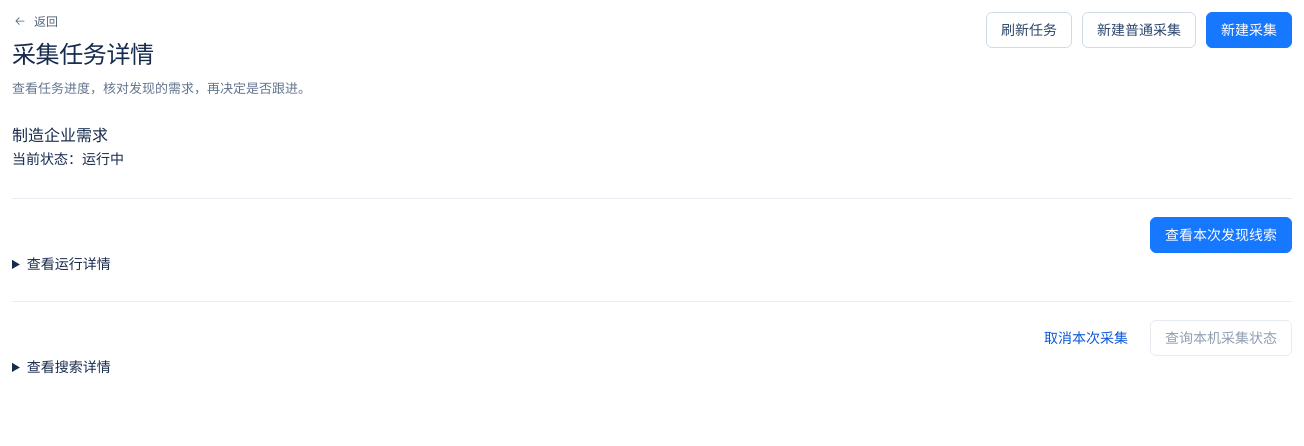
it: keeps the last observation with a visible warning on failed refresh and allows manual refresh
Check: the text "当前状态：运行中" is shown, box [12,150,124,167]
Click the button "刷新任务".
click(1029, 30)  # box [986,12,1072,48]
Wait 12000 ms
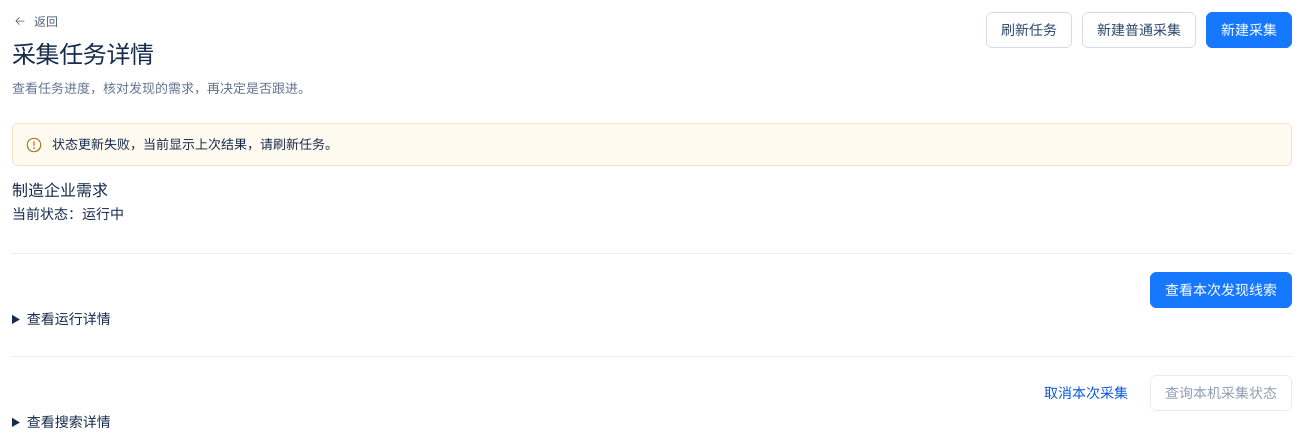
Check: the text "状态更新失败，当前显示上次结果，请刷新任务。" is shown, box [52,136,338,152]
Click the button "刷新任务".
click(1029, 30)  # box [986,12,1072,48]
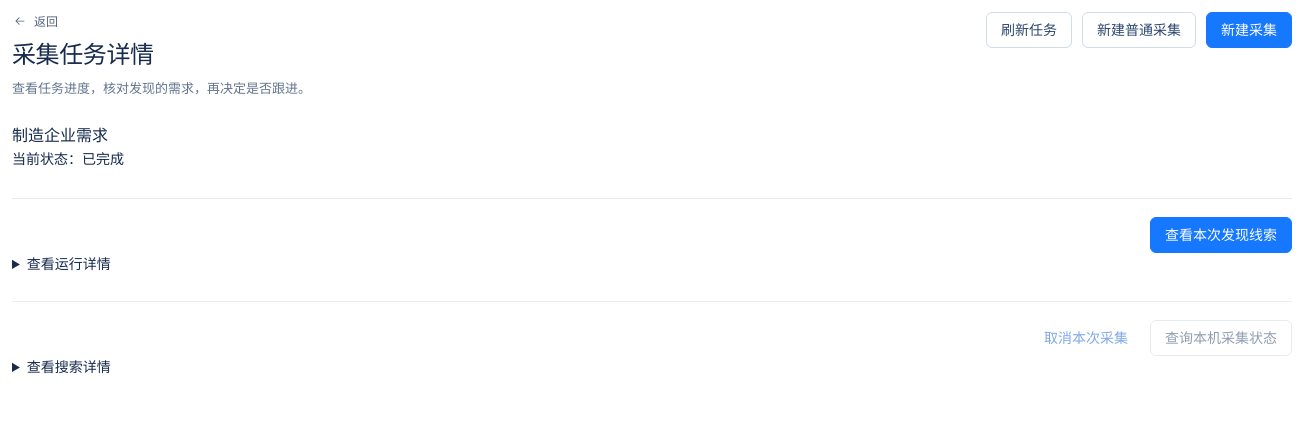
Check: the text "当前状态：已完成" is shown, box [12,150,124,167]
Check: the text "状态更新失败，当前显示上次结果，请刷新任务。" is gone
